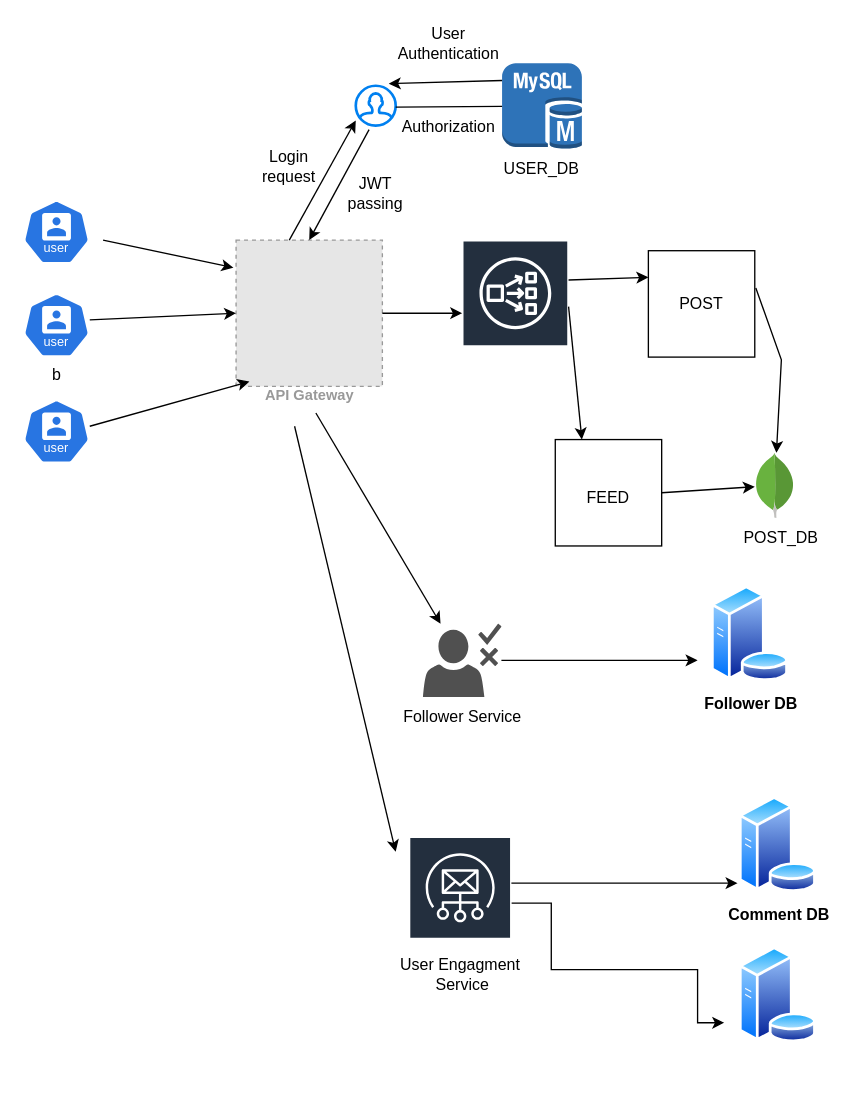
The diagram is 851 pixels wide and 1097 high, and some of its shapes have lost their labels. Grey dashed boxes stand in for pictures. The shapes that lost their labels are listed below. From the top down, each one's box as (x1, y1, x2, y2) in pixels, then its label:
(461, 239, 569, 386): Network Load Balancer
(738, 946, 817, 1042): Like DB
